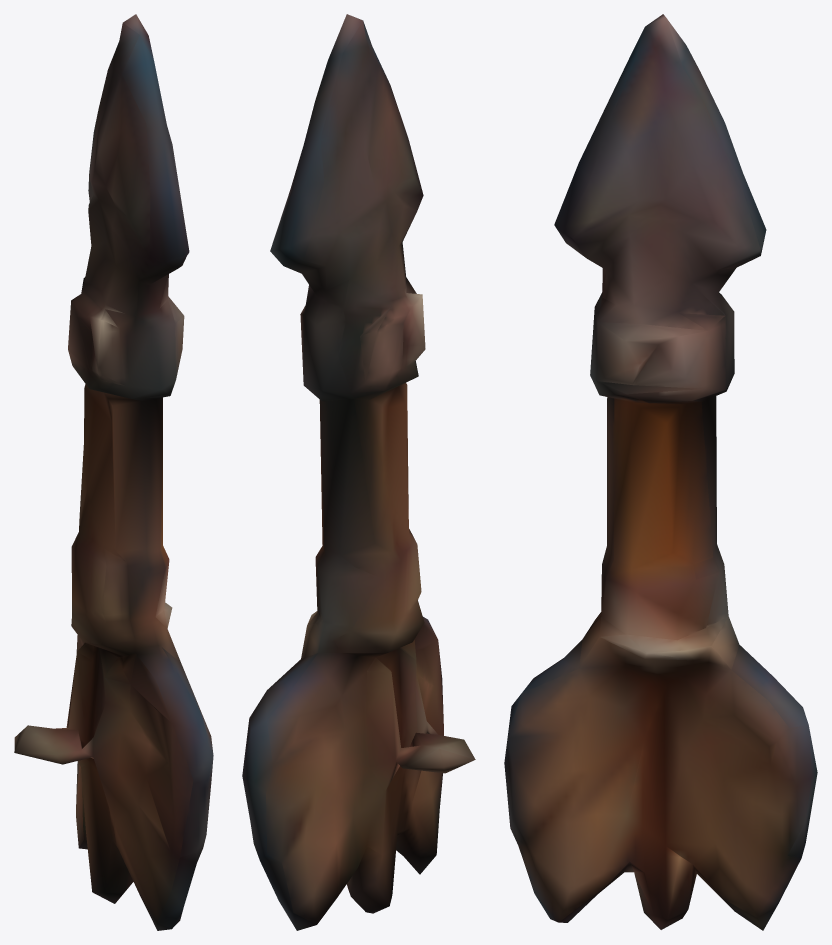
File: bolt_metal.glb
3 views of the same model, side by side, from view 1: azimuth 30°, elevation 25°; view 2: azimuth 150°, elevation 25°; view 3: azimuth 270°, elevation 25° (orthographic). The views are drawn at different scales.
Parts seen in each view (by area): view 1: model; view 2: model; view 3: model.
Part boxes in pixels (left/top/right/bottom): model: left=14, top=14, right=213, bottom=930; model: left=242, top=14, right=475, bottom=930; model: left=504, top=14, right=817, bottom=930.
Bounding box in the file's own units: 0.0777 × 0.4007 × 0.123.
1 material, 1 textured.
